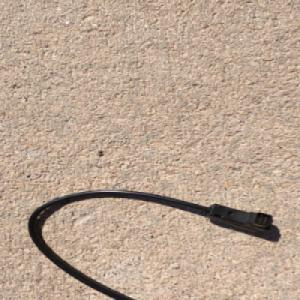Wire: (26, 186, 275, 300)
